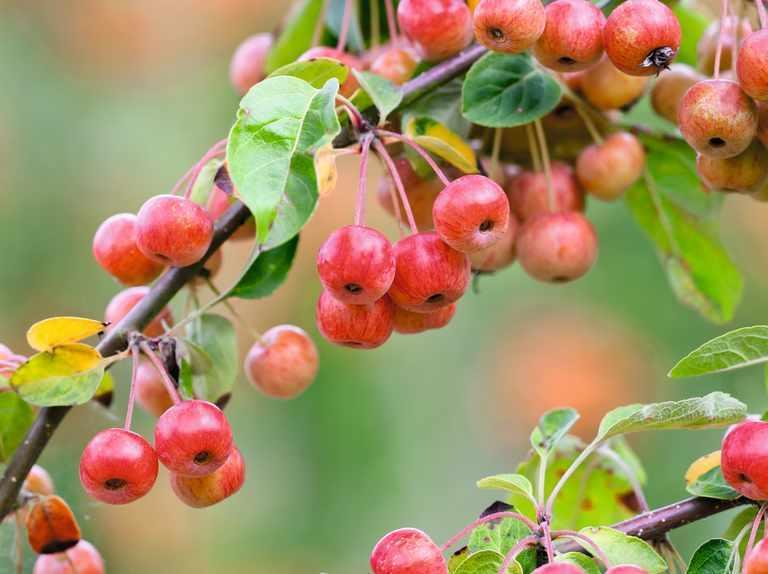apple: (432, 176, 515, 271), (72, 425, 159, 505), (387, 233, 471, 313), (676, 79, 760, 157), (312, 225, 396, 303), (128, 194, 213, 268), (603, 1, 681, 77), (158, 397, 233, 475), (389, 1, 477, 65), (532, 2, 607, 73), (93, 213, 162, 289), (171, 443, 248, 511), (314, 288, 398, 350), (719, 418, 767, 501), (694, 140, 765, 195), (474, 1, 545, 55), (230, 34, 273, 97)
